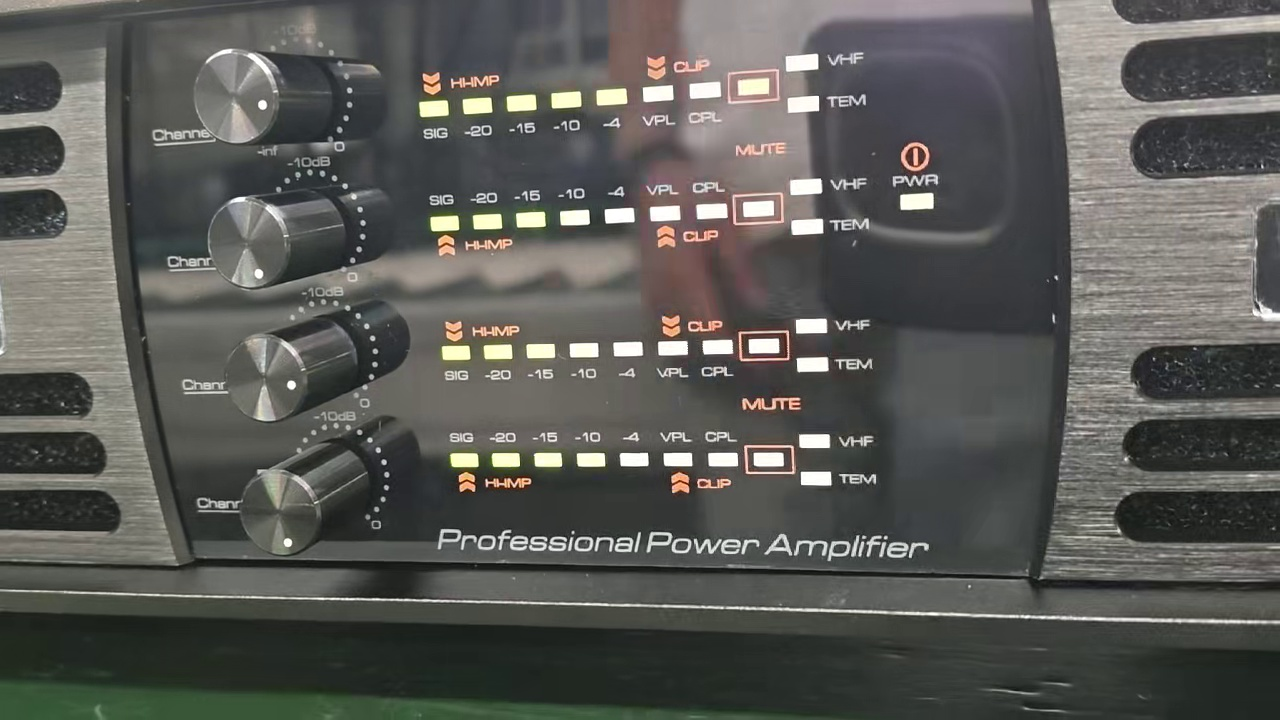FP_CPL: (683, 77, 726, 132), (689, 174, 732, 226), (700, 421, 741, 475), (699, 334, 736, 383)
FP_PWR: (886, 171, 947, 214)
FP_PWR_area: (884, 136, 949, 220)
FP_SIG_area: (415, 33, 876, 145), (423, 175, 878, 257), (448, 420, 880, 499), (439, 309, 882, 385)
FP_VPL: (636, 79, 686, 134), (643, 176, 685, 226), (656, 420, 696, 470), (654, 336, 692, 383)
